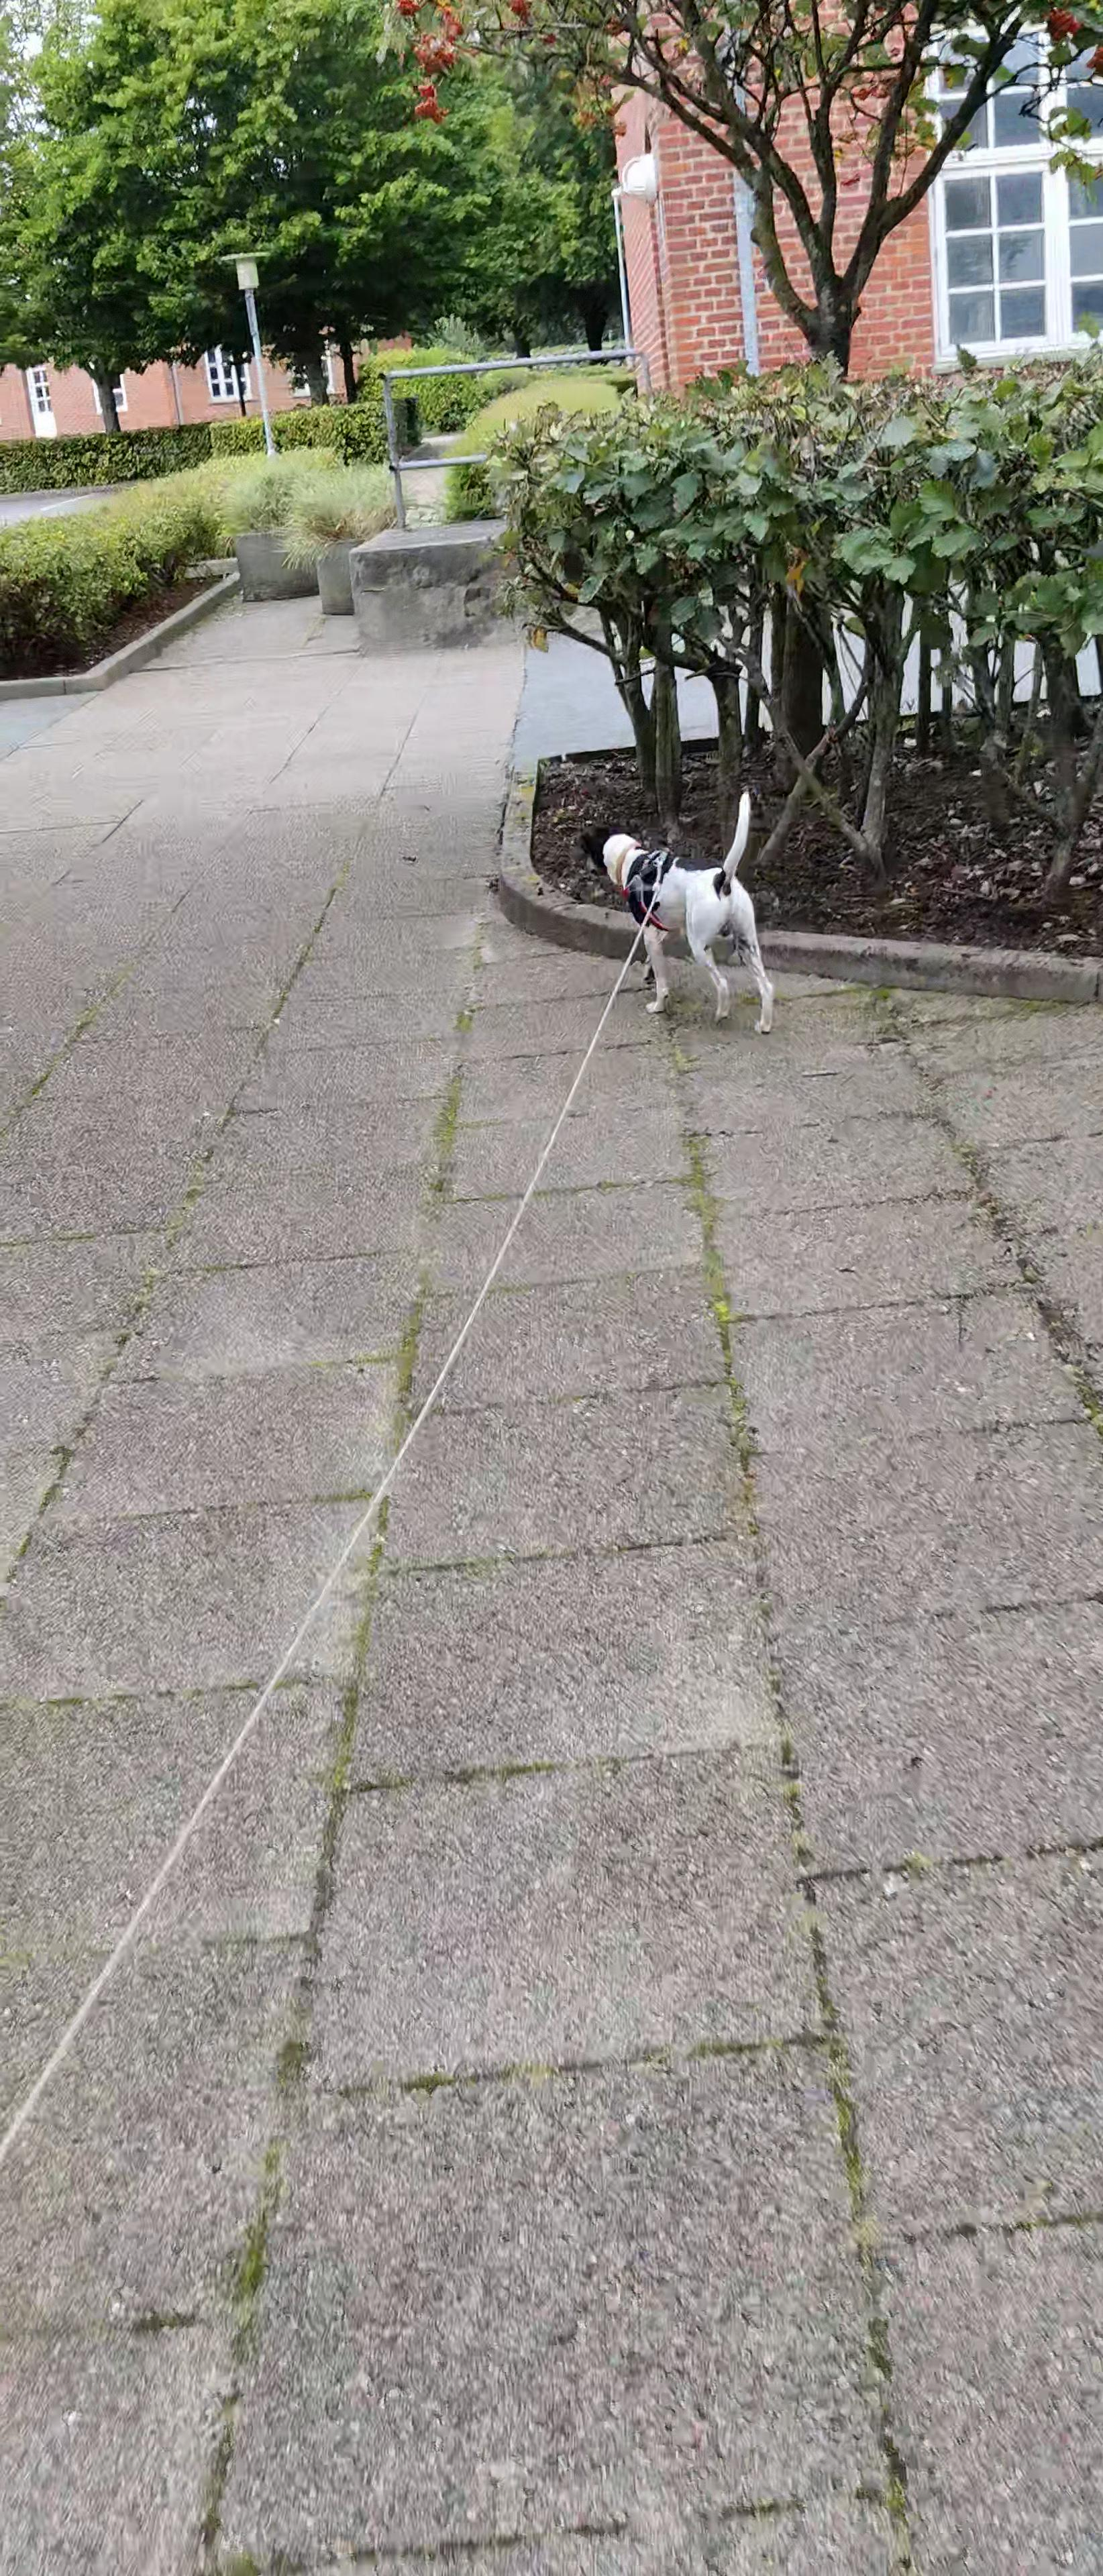Dog: (564, 777, 792, 1046)
